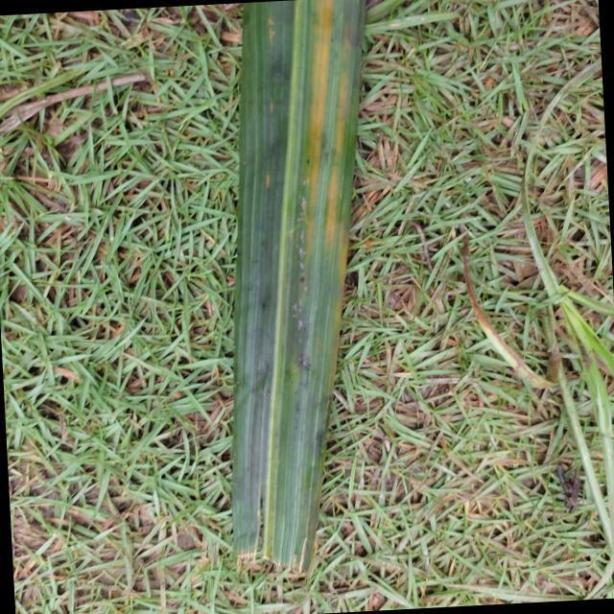Megnesium: (228, 0, 365, 577)
